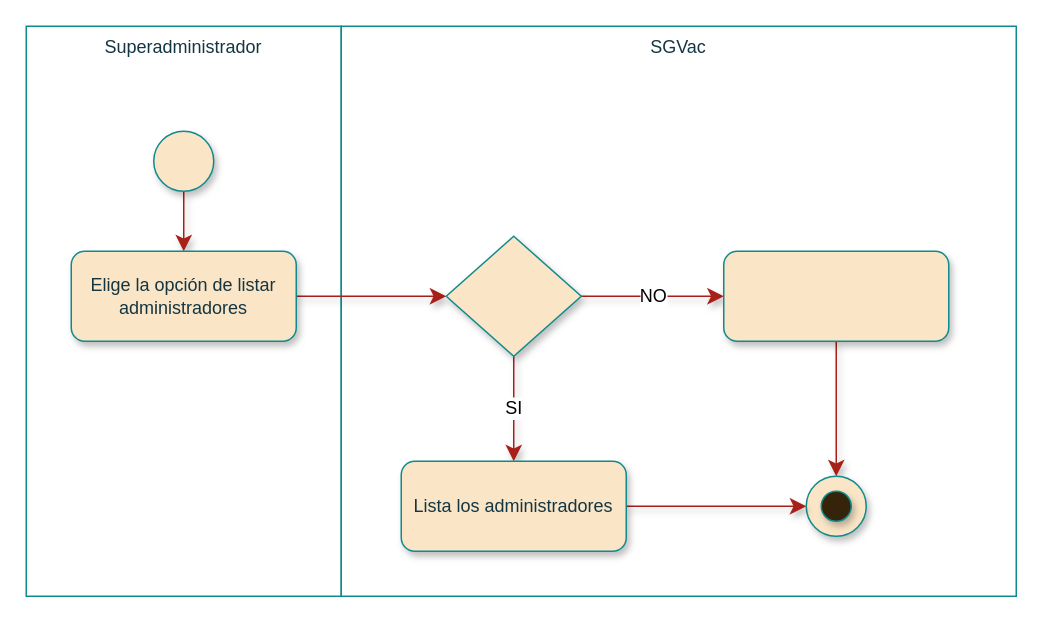
Some shapes in this 1043 by 623 pixel diagram are drawn without their labels. The shapes that lost their labels are listed below. From the top down, each one's centre as x and y in pixels, then its label:
At point 514,298: "Hay resultados?".
At point 837,298: "Muestra no hay resultados".
